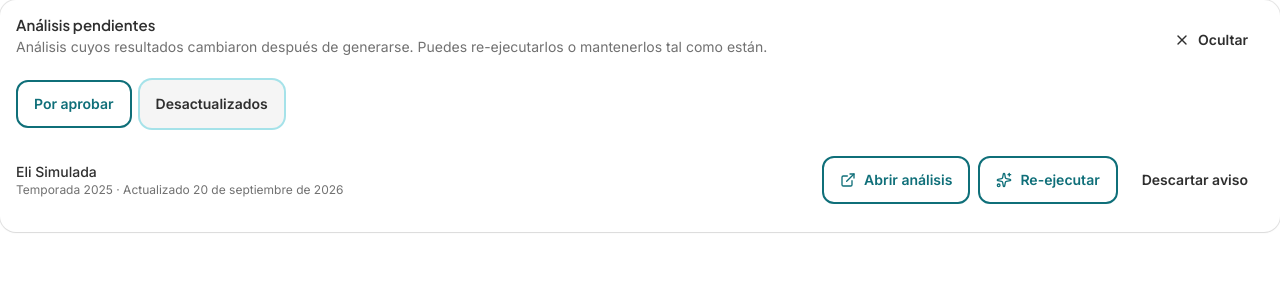
Test case: PendingAnalysesPanel — re-ejecutar resumen de temporada › un rechazo del backend (422: faltan válidas aprobadas) se muestra inline con su mensaje
Click the button with aria-label "Re-ejecutar el resumen de temporada de Eli Simulada" at (1048, 180), box [978, 156, 1118, 204]
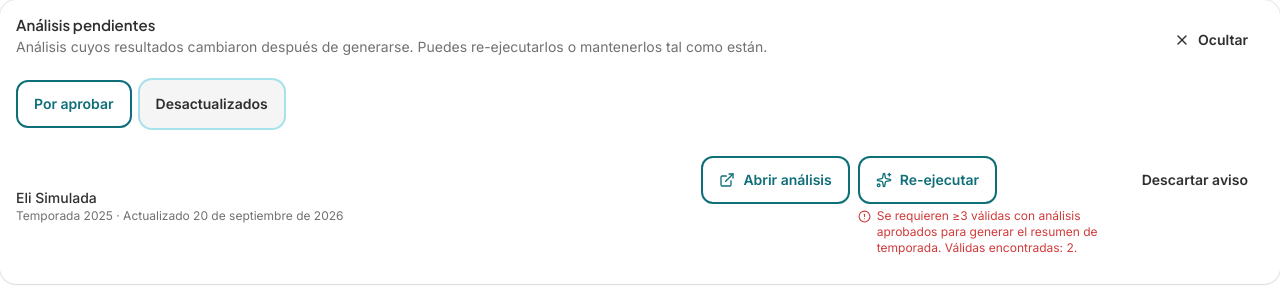
Result: the message with test id "pending-rerun-season-error-148" shows "Se requieren ≥3 válidas" at [877, 208, 1098, 255]
